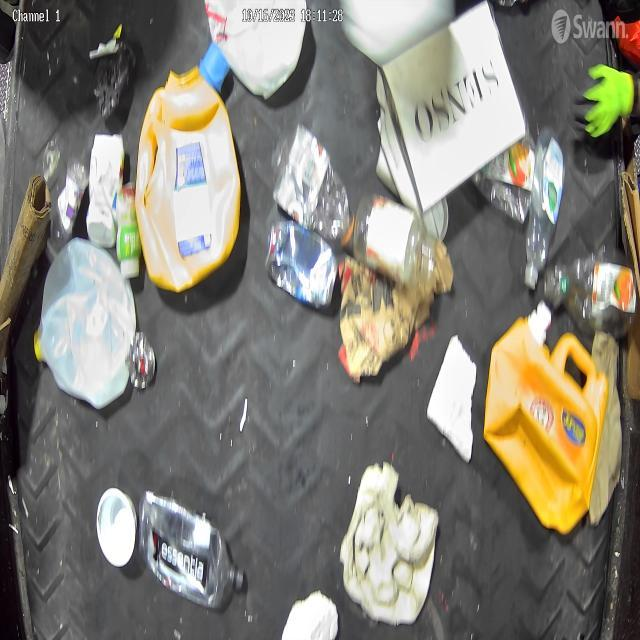can: (264, 218, 339, 298)
non_white_jug: (484, 300, 604, 534), (136, 70, 243, 288), (38, 243, 136, 404)
plastic_bottle: (138, 492, 244, 602), (270, 126, 356, 244), (547, 248, 635, 332), (524, 124, 566, 294)
